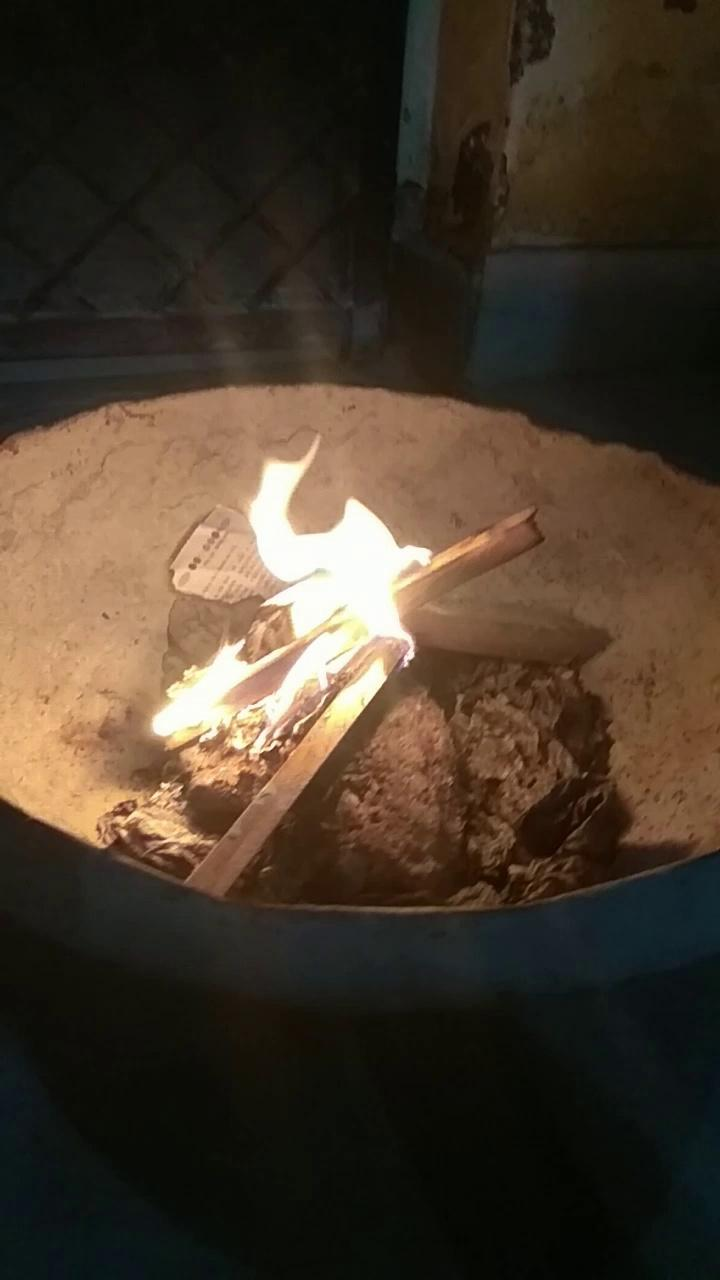fire: (182, 448, 462, 740)
